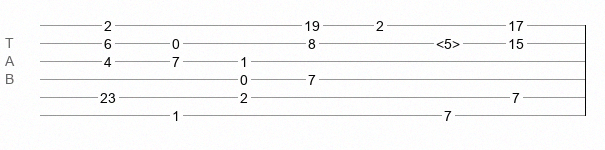0: (172, 36, 180, 46), (240, 72, 248, 82)
1: (172, 108, 180, 118), (240, 54, 248, 64)
15: (508, 36, 524, 46)
17: (508, 18, 524, 28)
19: (304, 18, 320, 28)
2: (104, 18, 112, 28), (240, 90, 248, 100), (376, 18, 384, 28)
23: (100, 90, 116, 100)
4: (104, 54, 112, 64)
6: (104, 36, 112, 46)
7: (172, 54, 180, 64), (308, 72, 316, 82), (444, 108, 452, 118), (512, 90, 520, 100)
8: (308, 36, 316, 46)
harmonic: (436, 36, 460, 46)
